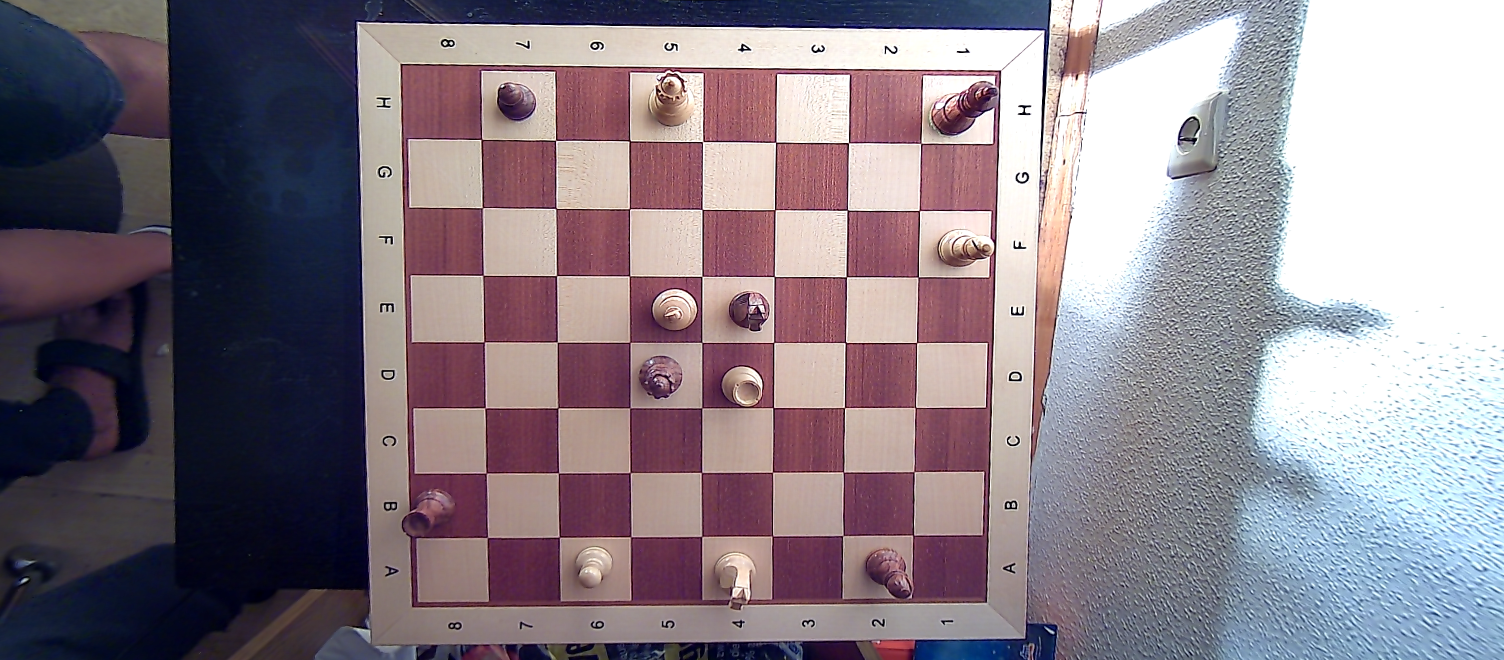black-bishop: (860, 545, 918, 604)
black-king: (927, 78, 1003, 139)
black-knight: (725, 284, 772, 334)
black-pawn: (494, 78, 538, 123)
black-queen: (637, 353, 686, 403)
black-rook: (399, 488, 457, 537)
white-bishop: (933, 224, 995, 274)
white-king: (647, 282, 700, 335)
white-knight: (711, 546, 757, 612)
white-pawn: (570, 543, 617, 592)
white-queen: (642, 67, 697, 129)
white-rook: (716, 360, 765, 407)
